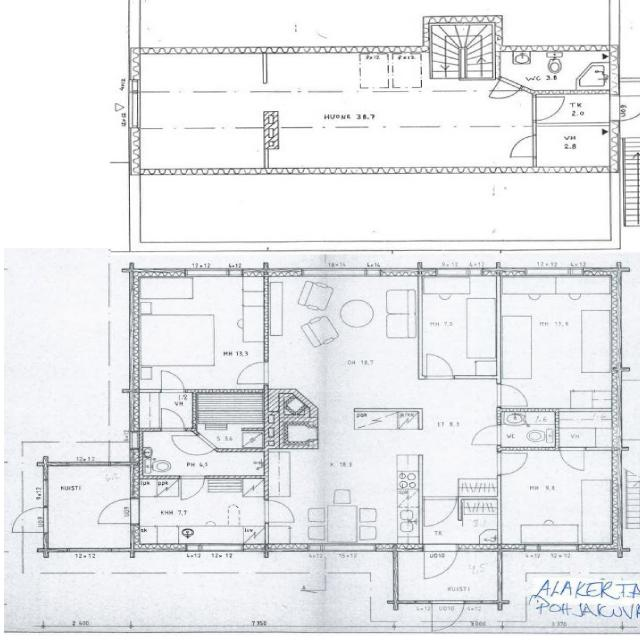door: (424, 544, 457, 578), (180, 432, 216, 462), (100, 499, 140, 523), (489, 76, 522, 105), (232, 84, 267, 110), (433, 599, 463, 629), (14, 507, 48, 532), (609, 95, 640, 120), (496, 453, 528, 475), (496, 384, 528, 406), (264, 500, 296, 522), (532, 97, 562, 120), (238, 362, 268, 383), (432, 76, 457, 101), (560, 446, 584, 471), (506, 136, 536, 156), (474, 425, 502, 444), (162, 370, 184, 393), (181, 476, 204, 498), (162, 409, 184, 431)
